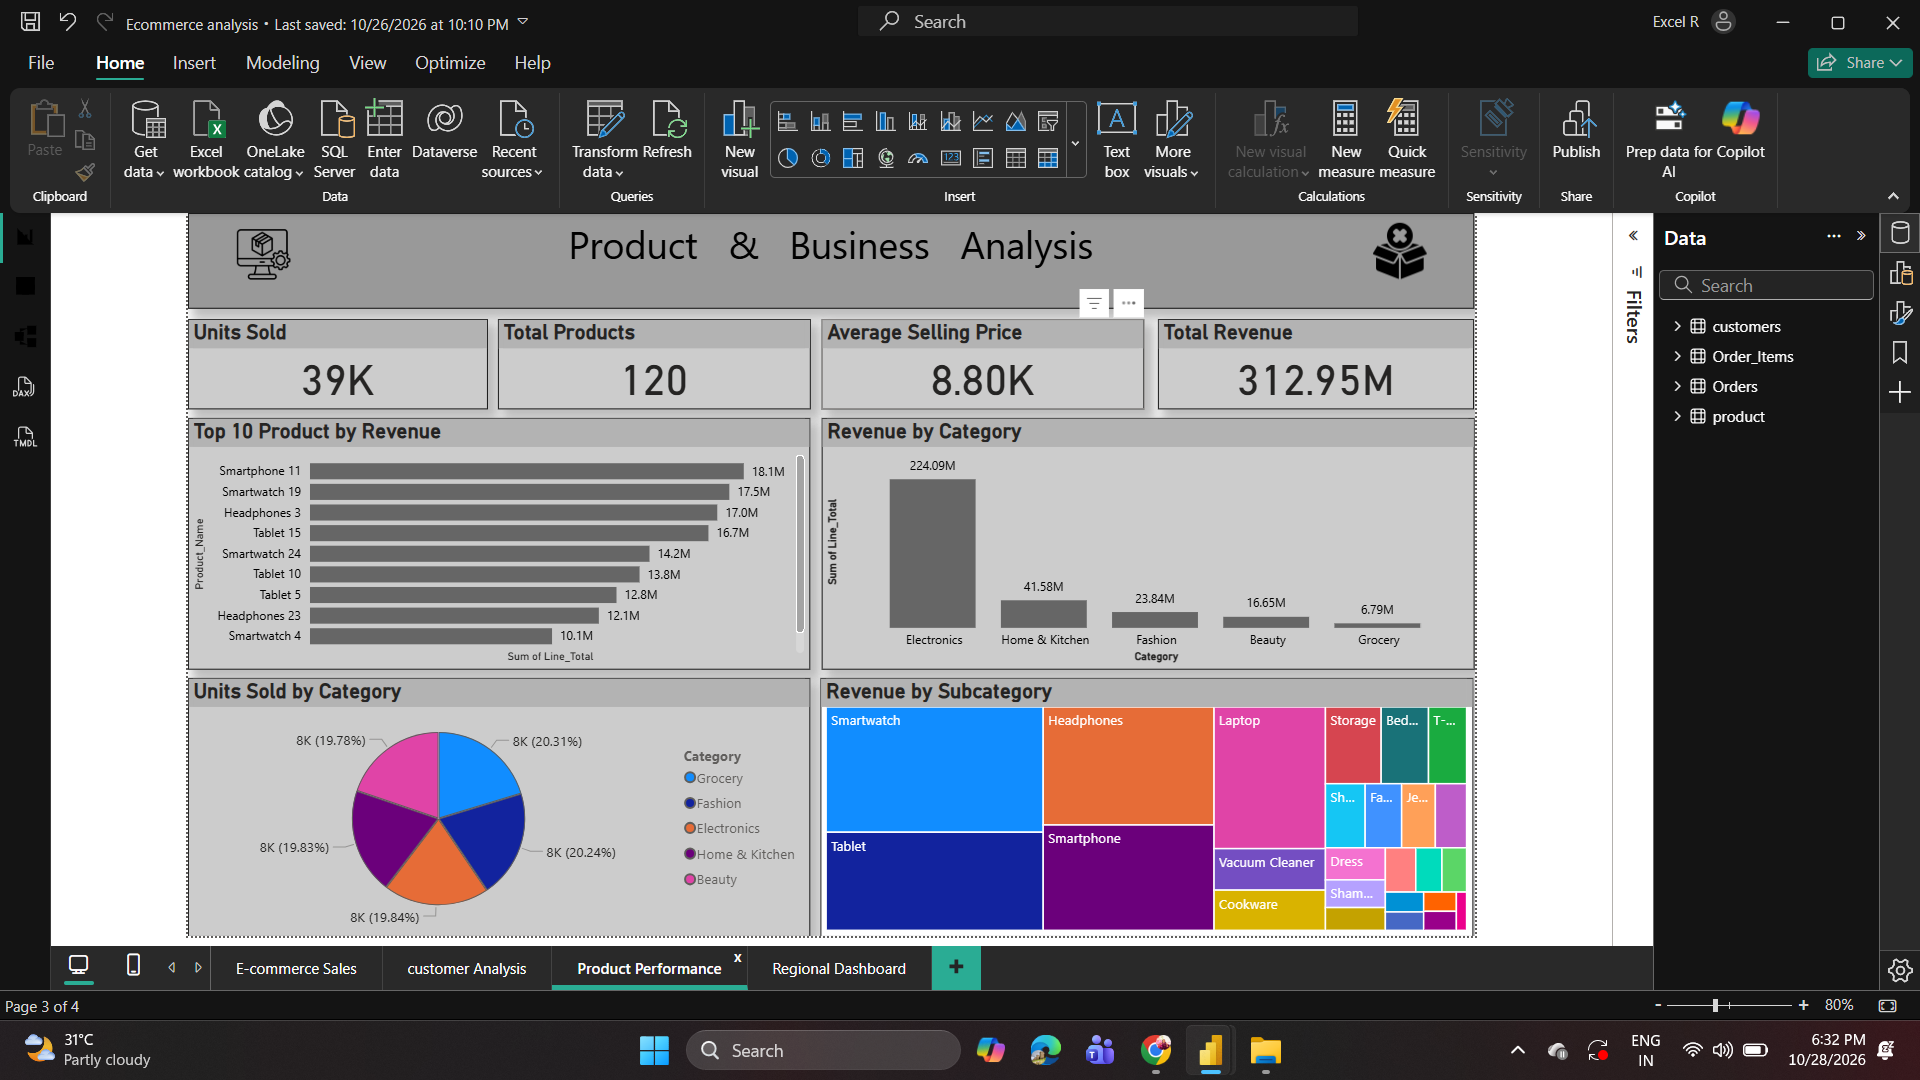

The dashboard page shown, as its layout file describes it:
{"tool":"powerbi","page":{"name":"Product analysis","canvas":[1280,720],"ordinal":2},"visuals":[{"type":"textbox","box":[0,0,1279.7,95.2],"z":0},{"type":"card","title":"Units Sold","fields":{"Values":["Order_Items.Units Sold"]},"box":[0,105.7,298.6,89.6],"z":1000},{"type":"card","title":"Total Products","fields":{"Values":["Order_Items.Total Products"]},"box":[308.5,105.7,311,89.6],"z":2000},{"type":"card","title":"Average Selling Price","fields":{"Values":["Order_Items.Average Selling Price"]},"box":[630.7,105.7,320.9,89.6],"z":3000},{"type":"card","title":"Total Revenue","fields":{"Values":["Order_Items.Total_revenue"]},"box":[965.3,105.7,314.7,89.6],"z":4000},{"type":"clusteredBarChart","title":"Top 10 Product by Revenue","fields":{"Category":["product.Product_Name"],"Y":["Sum(Order_Items.Line_Total)"]},"box":[0,204,619.5,250],"z":5000},{"type":"clusteredColumnChart","title":"Revenue by Category","fields":{"Category":["product.Category"],"Y":["Sum(Order_Items.Line_Total)"]},"box":[630.7,204,649.3,250],"z":6000},{"type":"pieChart","fields":{"Category":["product.Category"],"Y":["Order_Items.Units Sold"]},"box":[0,462.8,619.5,257.5],"z":7000},{"type":"treemap","title":"Revenue by Subcategory","fields":{"Values":["Order_Items.Total_revenue"],"Group":["product.Subcategory"]},"box":[629.4,462.8,649.3,257.5],"z":8000},{"type":"image","box":[1.2,8.7,148,64.7],"z":9000},{"type":"image","box":[1132,0,148,73.4],"z":10000}]}

Visuals, with their boxes on the page's 1280x720 design canvas (x1, y1, x2, y2). These are canvas units, not pixel positions in the 1920x1080 screenshot, which may show the page scaled, cropped or inside an application window:
textbox: Rect(0, 0, 1280, 95)
"Units Sold" card: Rect(0, 106, 299, 195)
"Total Products" card: Rect(308, 106, 620, 195)
"Average Selling Price" card: Rect(631, 106, 952, 195)
"Total Revenue" card: Rect(965, 106, 1280, 195)
"Top 10 Product by Revenue" clusteredBarChart: Rect(0, 204, 620, 454)
"Revenue by Category" clusteredColumnChart: Rect(631, 204, 1280, 454)
pieChart - product.Category x Order_Items.Units Sold: Rect(0, 463, 620, 720)
"Revenue by Subcategory" treemap: Rect(629, 463, 1279, 720)
image: Rect(1, 9, 149, 73)
image: Rect(1132, 0, 1280, 73)
